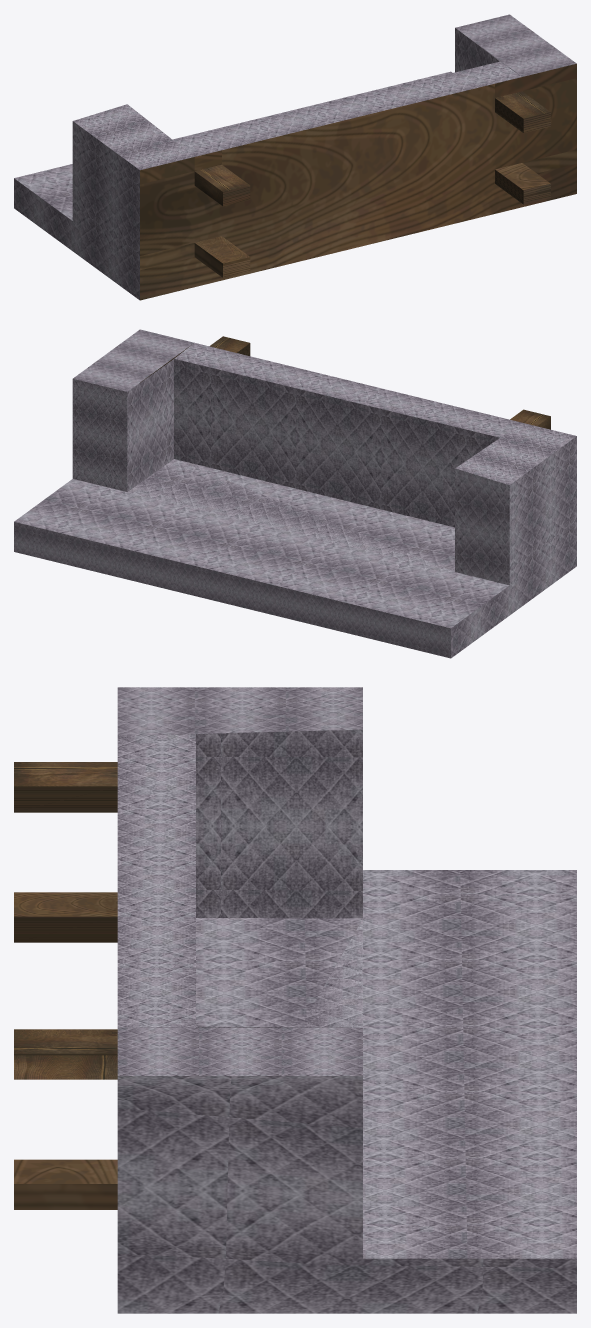
The model's file is sillon.fbx.
The picture shows the model from 3 angles, top to bottom: view 1: azimuth 30°, elevation 25°; view 2: azimuth 150°, elevation 25°; view 3: azimuth 270°, elevation 25°; orthographic projection. The views are drawn at different scales.
Parts seen in each view (by area): view 1: Plane; view 2: Plane; view 3: Plane.
Boxes of the visible parts, left/top/right/bottom form: Plane: left=14, top=14, right=576, bottom=300; Plane: left=14, top=329, right=576, bottom=658; Plane: left=14, top=687, right=576, bottom=1313.
Size of the model in its own units: 2000 by 585 by 1224.
Materials: 2 (2 with a texture image).
